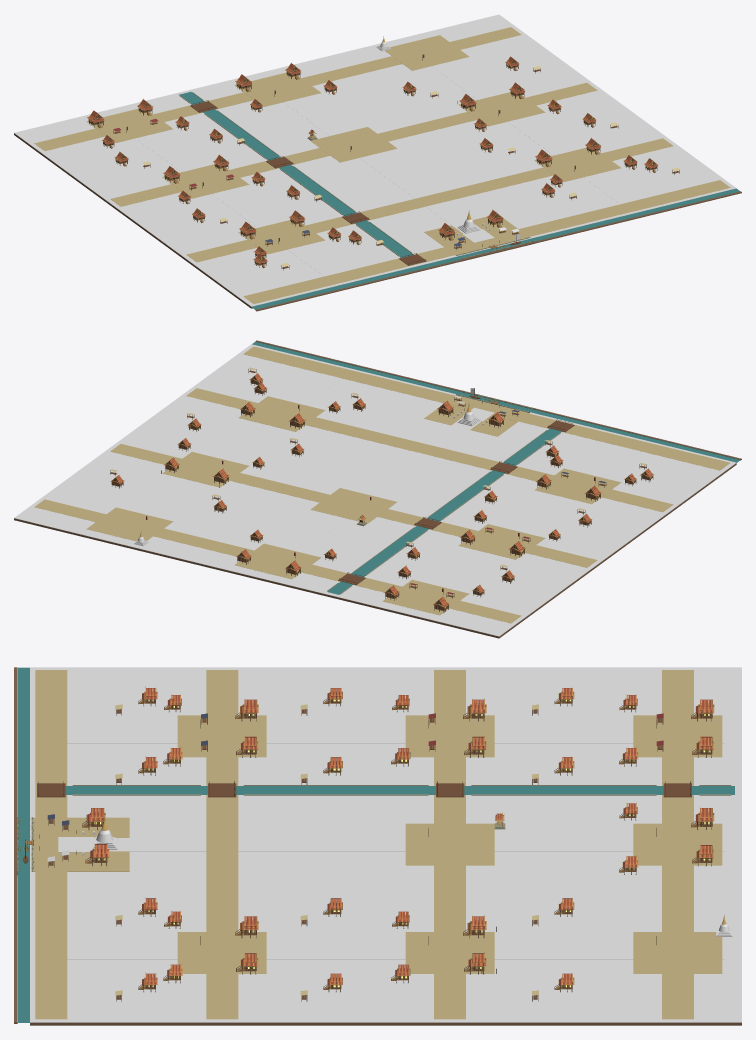
The model's file is nakhon.glb.
The picture shows the model from 3 angles, top to bottom: view 1: azimuth 30°, elevation 25°; view 2: azimuth 150°, elevation 25°; view 3: azimuth 270°, elevation 25°; orthographic projection. The views are drawn at different scales.
Visible parts, largest first — view 1: Expanded ground · meadow, Regional avenues · sand, Regional avenues · paving, City canal · water, River extension · water, District square 4 · sand, District square 6 · sand, District square 3 · sand, District square 7 · sand, District square 1 · sand, District square 2 · sand, District square 0 · sand (+6 smaller); view 2: Expanded ground · meadow, Regional avenues · sand, Regional avenues · paving, City canal · water, Expanded ground · earth, River extension · water, District square 4 · sand, District square 6 · sand, District square 1 · sand, District square 7 · sand, District square 3 · sand, District square 5 · sand (+6 smaller); view 3: Expanded ground · meadow, Regional avenues · sand, Regional avenues · paving, City canal · water, District square 4 · sand, District square 6 · sand, River extension · water, District square 7 · sand, District square 3 · sand, District square 1 · sand, District square 5 · sand, District square 0 · sand (+7 smaller).
Part boxes in pixels (box(x1,y1,x2,y2)): Expanded ground · meadow: box(14, 14, 736, 306); Regional avenues · sand: box(34, 27, 730, 303); Regional avenues · paving: box(105, 39, 638, 276); City canal · water: box(179, 92, 413, 257); River extension · water: box(251, 188, 739, 309); District square 4 · sand: box(310, 127, 397, 162); District square 6 · sand: box(385, 35, 469, 70); District square 3 · sand: box(458, 92, 545, 126); District square 7 · sand: box(234, 72, 320, 106); District square 1 · sand: box(534, 147, 620, 181); District square 2 · sand: box(162, 164, 249, 198); District square 0 · sand: box(238, 220, 324, 254); Expanded ground · meadow: box(14, 344, 736, 636); Regional avenues · sand: box(34, 346, 730, 623); Regional avenues · paving: box(105, 374, 638, 610); City canal · water: box(327, 428, 561, 594); Expanded ground · earth: box(14, 463, 736, 638); River extension · water: box(252, 341, 740, 463); District square 4 · sand: box(311, 488, 396, 523); District square 6 · sand: box(86, 507, 173, 541); District square 1 · sand: box(238, 396, 325, 431); District square 7 · sand: box(234, 543, 321, 579); District square 3 · sand: box(162, 452, 249, 487); District square 5 · sand: box(382, 579, 469, 615); Expanded ground · meadow: box(30, 667, 741, 1022); Regional avenues · sand: box(35, 670, 693, 1019); Regional avenues · paving: box(67, 729, 724, 959); City canal · water: box(65, 786, 734, 794); District square 4 · sand: box(405, 823, 494, 865); District square 6 · sand: box(633, 932, 722, 973); River extension · water: box(18, 667, 31, 1022); District square 7 · sand: box(633, 823, 722, 865); District square 3 · sand: box(405, 932, 494, 973); District square 1 · sand: box(177, 932, 266, 973); District square 5 · sand: box(633, 715, 722, 757); District square 0 · sand: box(177, 715, 266, 757).
Bounding box in the file's own units: 236 × 10.16 × 204.
